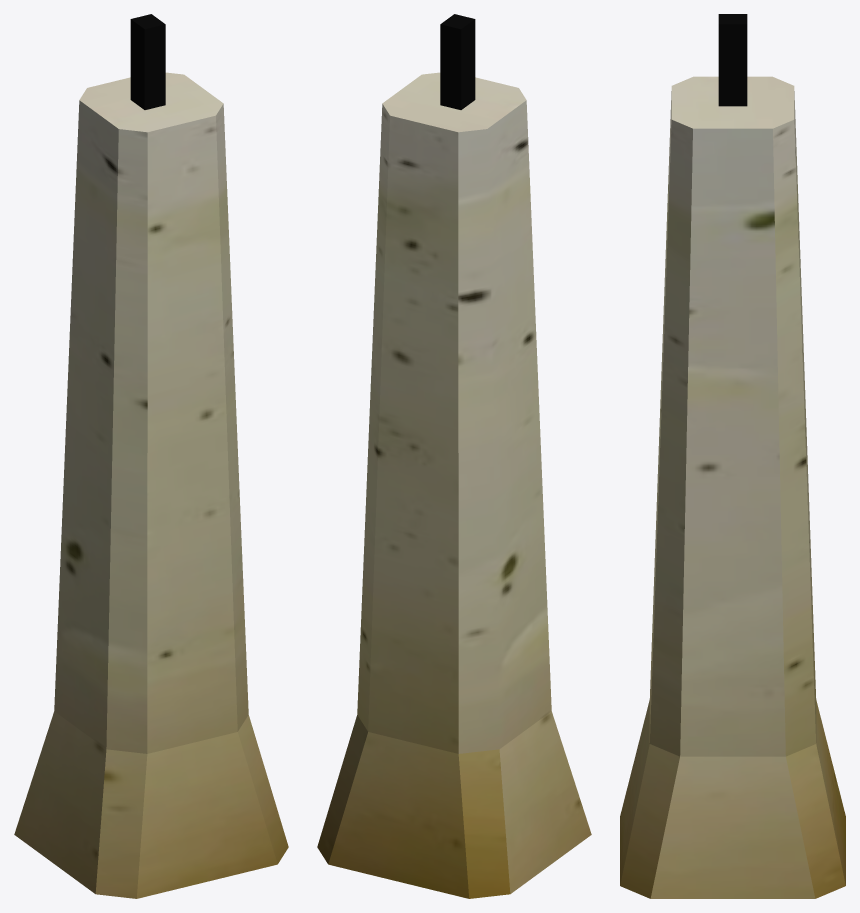
The model's file is LongCandle.fbx.
The picture shows the model from 3 angles, left to right: view 1: azimuth 30°, elevation 25°; view 2: azimuth 150°, elevation 25°; view 3: azimuth 270°, elevation 25°; orthographic projection.
Visible parts, largest first — view 1: long_candle; view 2: long_candle; view 3: long_candle.
Boxes of the visible parts, left/top/right/bottom form: long_candle: left=14, top=14, right=288, bottom=898; long_candle: left=317, top=14, right=591, bottom=898; long_candle: left=620, top=14, right=845, bottom=898.
Bounding box in the file's own units: 0.1626 × 0.1626 × 0.6598.
